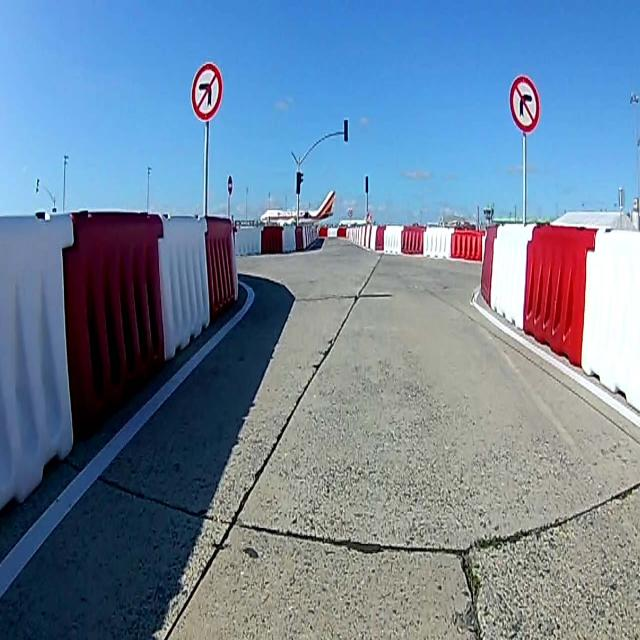sagadonulmez: (509, 74, 541, 133)
soladonulmez: (191, 63, 223, 120)
